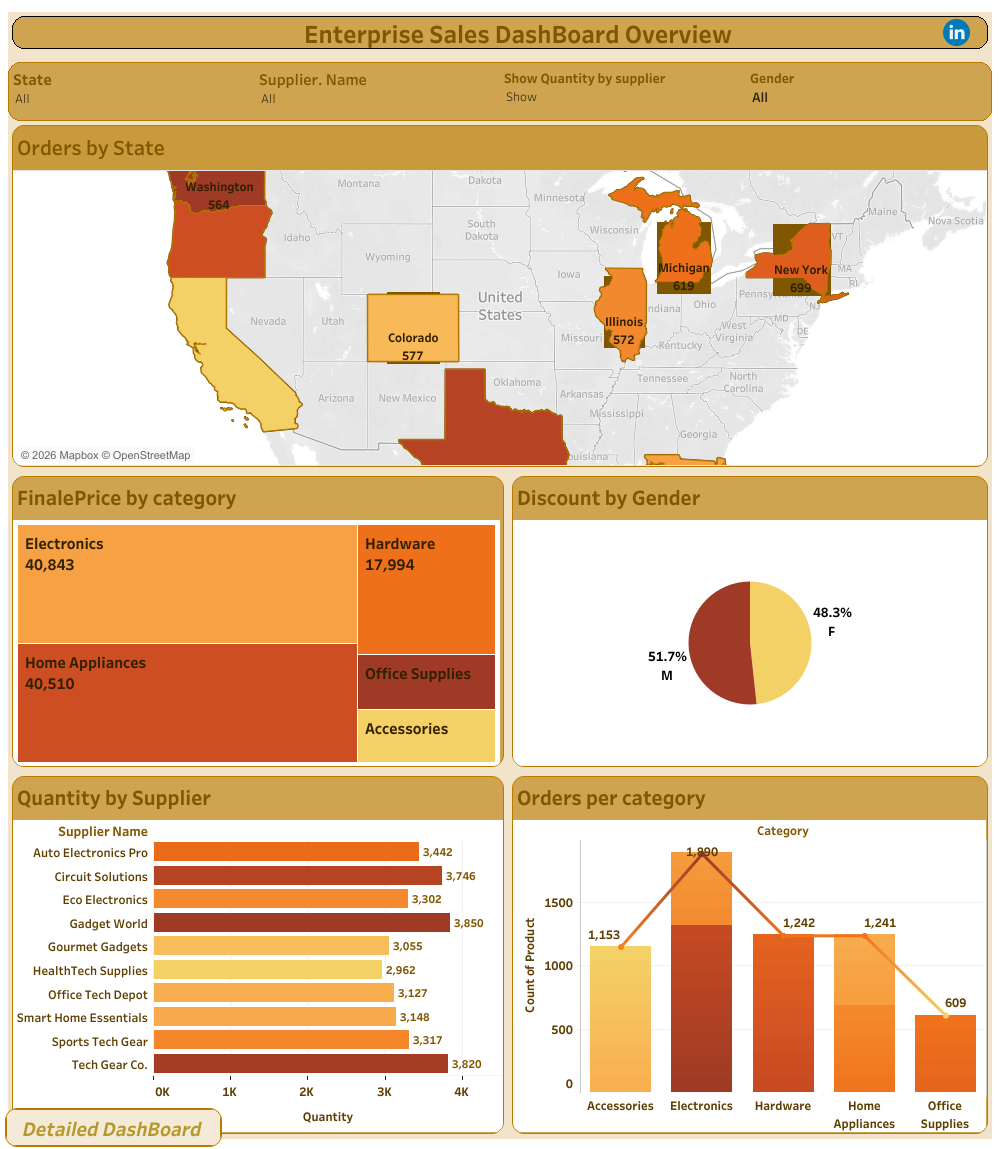

The dashboard page shown, as its layout file describes it:
{"tool":"tableau","page":{"name":"Sales Dashboard","canvas":[1000,1150],"ordinal":1},"visuals":[{"type":"image","param":"C:/Users/MG Magic/Downloads/linkedin.png","box":[868,10,66,49]},{"type":"text","box":[8,11.5,984,41]},{"type":"filter","title":"Order by state","param":"[federated.1jkwm7j03nqjje102eus40lsdnv0].[none:State:nk]","box":[9,62.5,245.5,58]},{"type":"filter","title":"FinalePrice by category","param":"[federated.1jkwm7j03nqjje102eus40lsdnv0].[none:Gender:nk]","box":[254.5,62.5,245.5,58]},{"type":"filter","title":"Quantity by supplier","param":"[federated.1jkwm7j03nqjje102eus40lsdnv0].[none:Supplier_Name:nk]","box":[500,62.5,245.5,58]},{"type":"parameter","param":"[Parameters].[Parameter 0248798376280064]","box":[745.5,62.5,245.5,58]},{"type":"worksheet","title":"Order by state","mark":"Multipolygon","box":[8,121.5,984,350]},{"type":"worksheet","title":"FinalePrice by category","mark":"Automatic","box":[8,471.5,500,300]},{"type":"worksheet","title":"Discount by gender","mark":"Pie","box":[508,471.5,484,300]},{"type":"worksheet","title":"Quantity by supplier","mark":"Automatic","rows":["Supplier_Name"],"cols":["Quantity"],"box":[8,771.5,500,366.9]},{"type":"worksheet","title":"Orders per category","mark":"Automatic","rows":["Product_Name","Calculation_0514330427035654"],"cols":["Category"],"box":[508,771.5,484,366.9]},{"type":"dashboard-object","box":[5,1108,217,39]}]}

Visuals, with their boxes in screenshot pixels (x1, y1, x2, y2), scaled from the page's 1000x1150 canvas onto the 999x1149 screenshot:
image: bbox(867, 10, 933, 59)
text: bbox(8, 11, 991, 52)
"Order by state" filter: bbox(9, 62, 254, 120)
"FinalePrice by category" filter: bbox(254, 62, 500, 120)
"Quantity by supplier" filter: bbox(500, 62, 745, 120)
parameter: bbox(745, 62, 990, 120)
"Order by state" worksheet (Multipolygon marks): bbox(8, 121, 991, 471)
"FinalePrice by category" worksheet: bbox(8, 471, 507, 771)
"Discount by gender" worksheet (Pie marks): bbox(507, 471, 991, 771)
"Quantity by supplier" worksheet: bbox(8, 771, 507, 1137)
"Orders per category" worksheet: bbox(507, 771, 991, 1137)
dashboard-object: bbox(5, 1107, 222, 1146)
